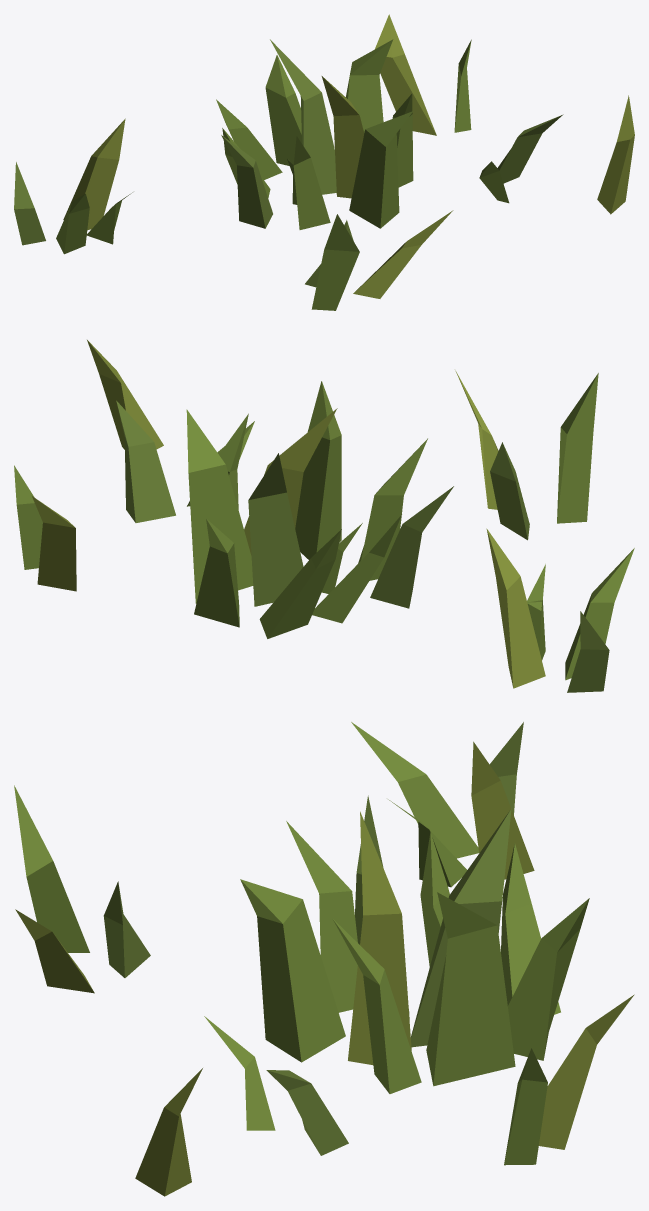
Rendered from Grass_1.fbx.
3 renders of one model, top to bottom at view 1: azimuth 30°, elevation 25°; view 2: azimuth 150°, elevation 25°; view 3: azimuth 270°, elevation 25°, orthographic. The views are drawn at different scales.
Visible parts, largest first — view 1: Grass_1; view 2: Grass_1; view 3: Grass_1.
Part boxes in pixels (<box>): Grass_1: <box>14,14,634,310</box>; Grass_1: <box>14,340,634,692</box>; Grass_1: <box>14,722,634,1196</box>.
Size of the model in its own units: 121 by 30.78 by 82.72.
